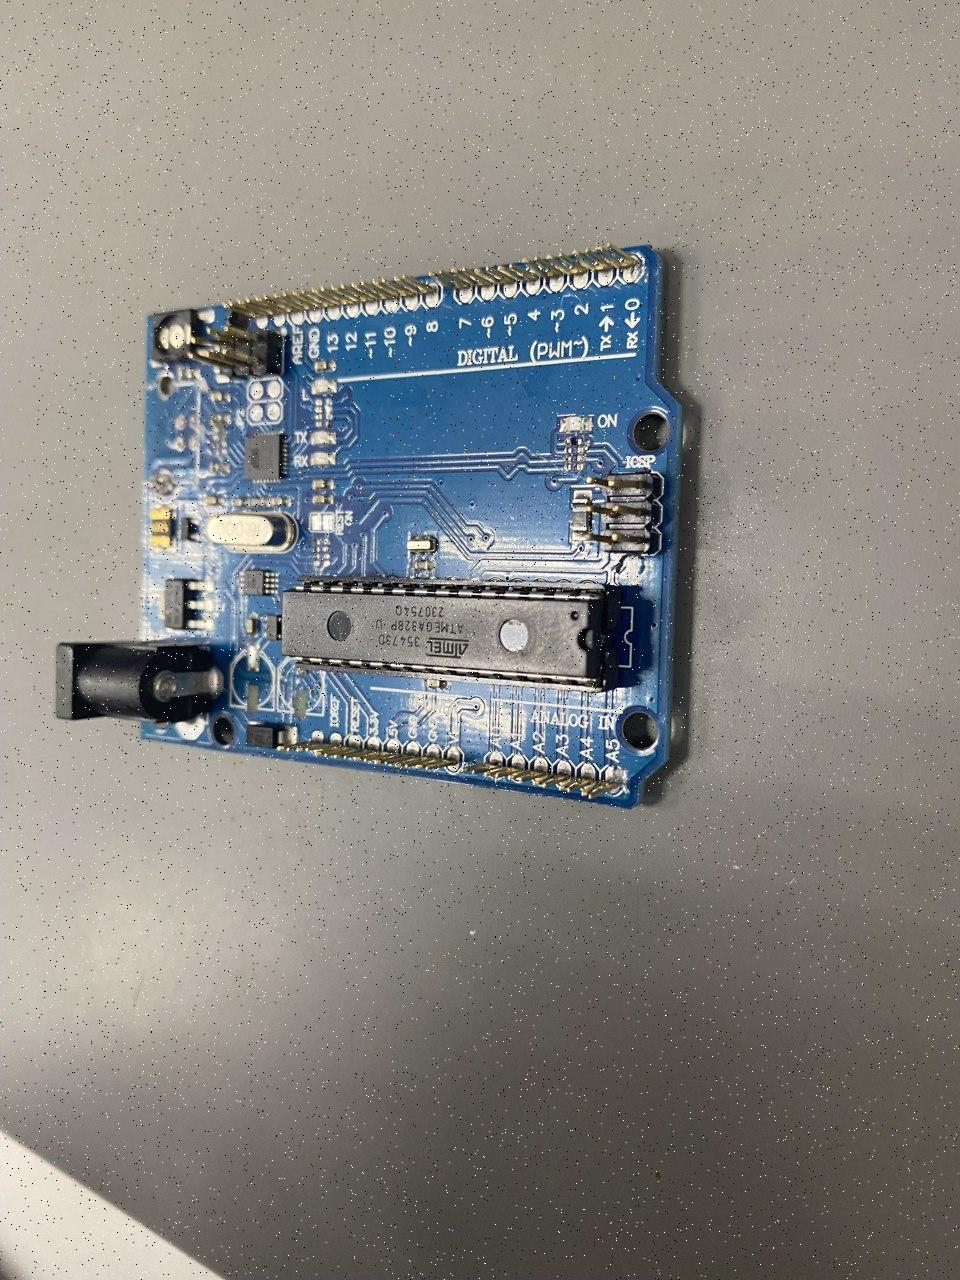ATmega328 chip: (279, 575, 615, 694)
Arduino board: (54, 241, 682, 812)
